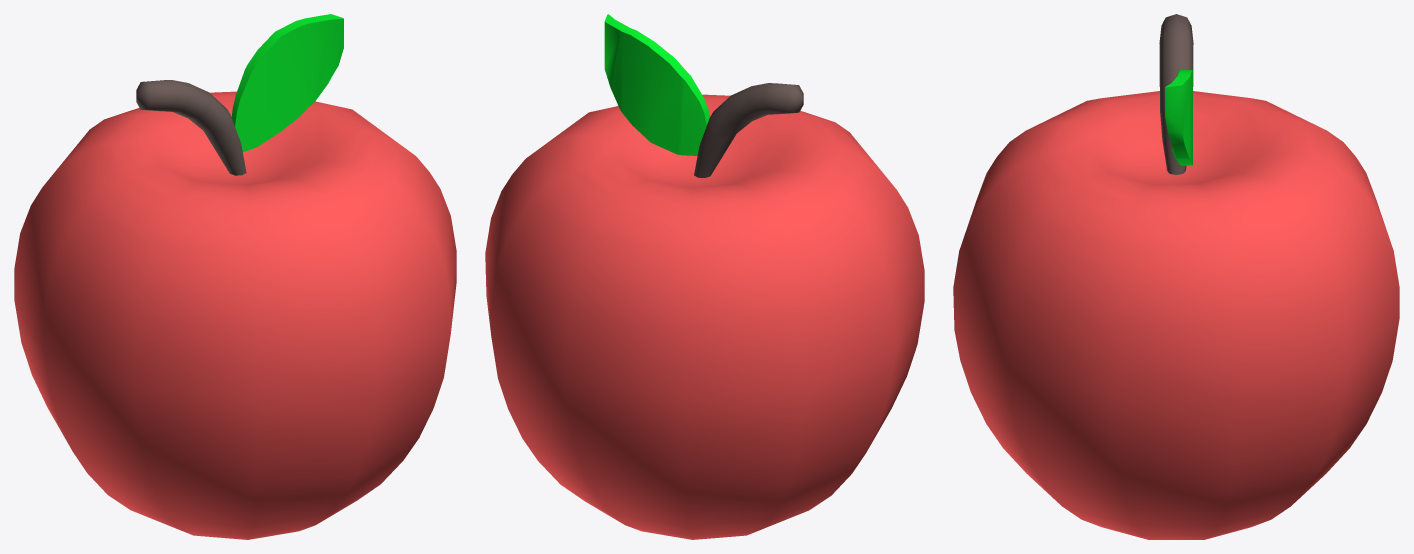
The model's file is apple1.glb.
The picture shows the model from 3 angles, left to right: view 1: azimuth 30°, elevation 25°; view 2: azimuth 150°, elevation 25°; view 3: azimuth 270°, elevation 25°; orthographic projection.
Size of the model in its own units: 0.5502 by 0.6486 by 0.5558.
